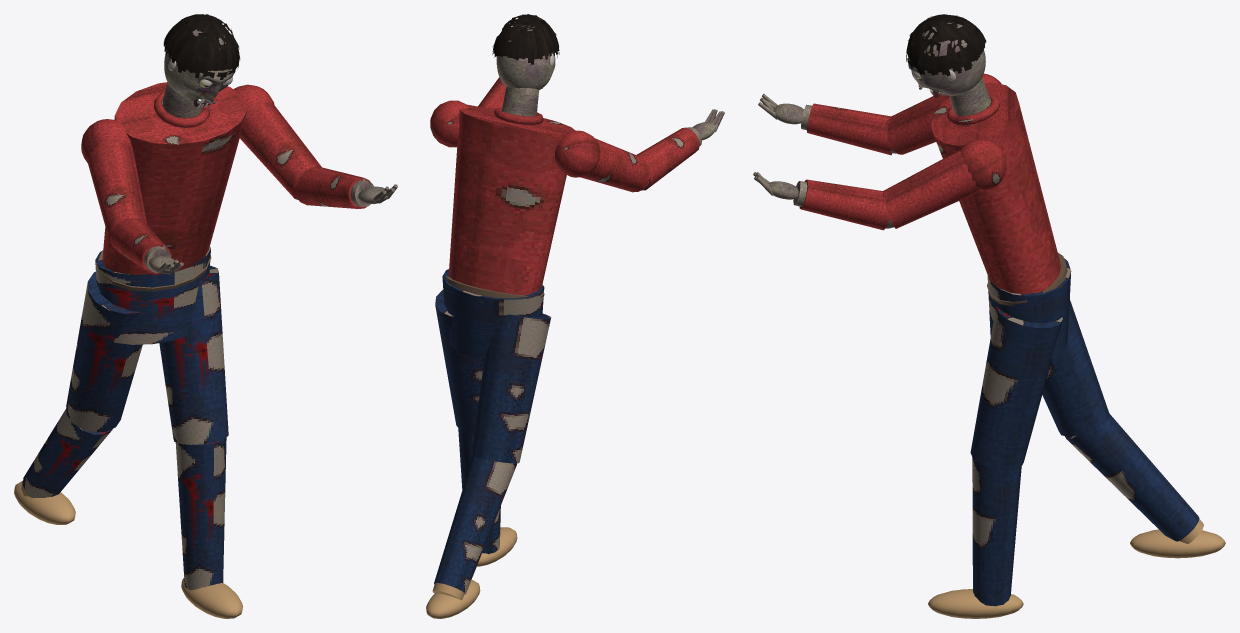
File: Zombie_076.glb
3 views of the same model, side by side, from view 1: azimuth 30°, elevation 25°; view 2: azimuth 150°, elevation 25°; view 3: azimuth 270°, elevation 25° (orthographic). The views are drawn at different scales.
Visible parts, largest first — view 1: Zombie_076, object 42, object 12, object 4, object 18; view 2: Zombie_076, object 42, object 4, object 18, object 12; view 3: Zombie_076, object 12, object 4, object 42, object 18.
Boxes of the visible parts, x1,y1,x2,y2 form: Zombie_076: (14,82,321,618); object 42: (163,14,239,79); object 12: (294,166,370,208); object 4: (109,218,171,273); object 18: (164,25,233,103); Zombie_076: (426,86,651,618); object 42: (492,14,559,61); object 4: (636,127,699,190); object 18: (496,25,555,90); object 12: (478,77,506,108); Zombie_076: (883,73,1225,618); object 12: (799,179,889,230); object 4: (807,103,892,155); object 42: (906,14,986,74); object 18: (908,22,985,95).
Bounding box in the file's own units: 0.7803 × 1.96 × 1.43.
Materials: 16 (6 with a texture image).
